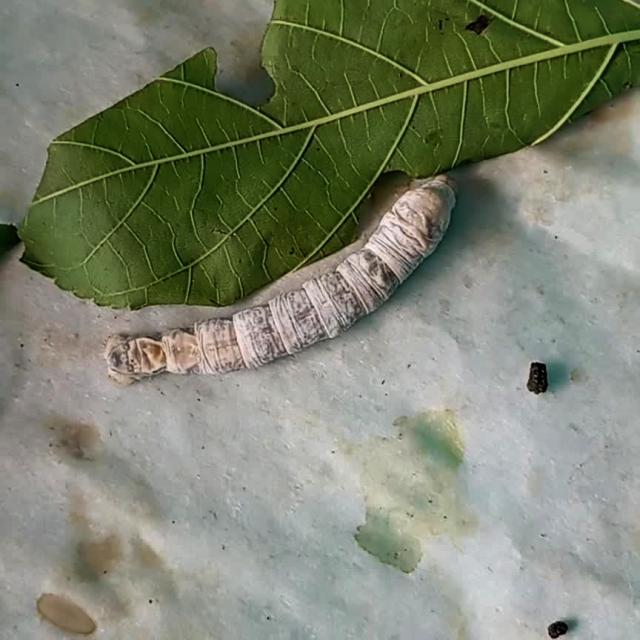Grasserie: (86, 147, 472, 384)
